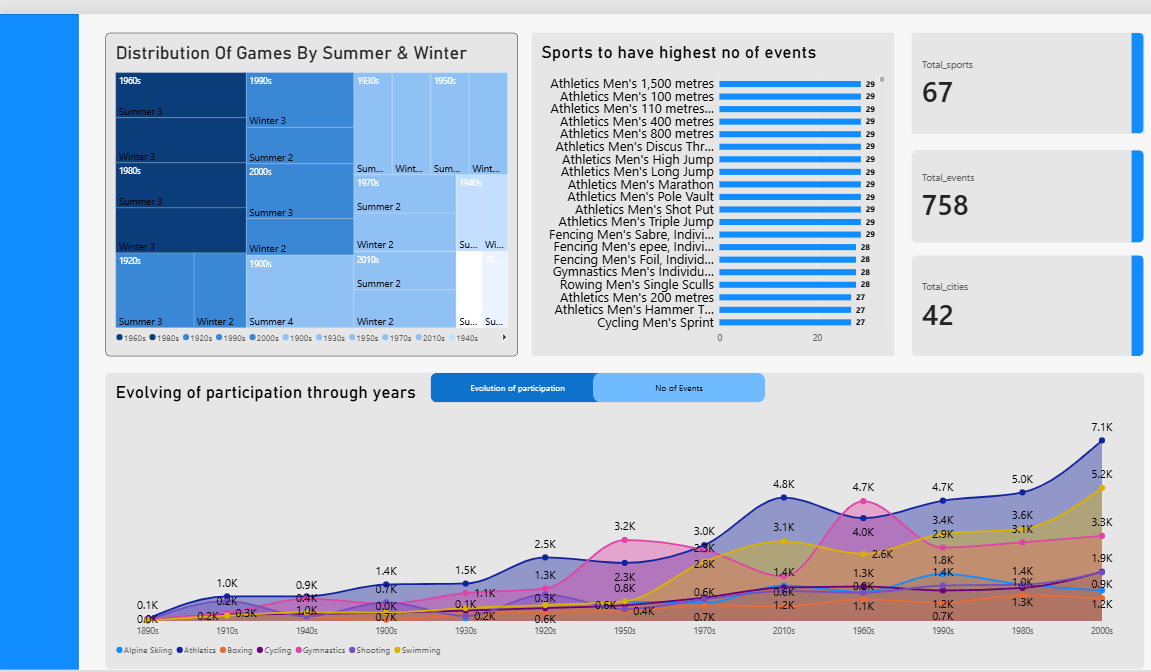

The dashboard page shown, as its layout file describes it:
{"tool":"powerbi","page":{"name":"Page 2","canvas":[1920,1080],"ordinal":1},"visuals":[{"type":"treemap","title":"Distribution Of Games By Summer & Winter","fields":{"Group":["consolidated_fact.games_decade"],"Details":["consolidated_fact.games_season"],"Values":["Count(consolidated_fact.game_name)"]},"box":[177,30.9,679.2,533.1],"z":0},{"type":"clusteredBarChart","title":"Sports to have highest no of events","fields":{"Category":["consolidated_fact.event_name"],"Y":["Count(consolidated_fact.game_name)"]},"box":[878.9,30.9,596.9,533.1],"z":1000},{"type":"lineChart","title":"Evolving of participation through years","fields":{"Category":["consolidated_fact.games_decade"],"Y":["CountNonNull(consolidated_fact.games_competitor_id)"],"Series":["consolidated_fact.sport_name"]},"box":[177,590.7,1710.5,487.8],"z":2000},{"type":"actionButton","box":[712.2,589.8,287.8,49],"z":4000},{"type":"actionButton","box":[979.6,589.8,283.7,49],"z":5000},{"type":"shape","box":[0,0,132.7,1079.6],"z":6000},{"type":"cardVisual","fields":{"Data":["MTable.Total_sports"]},"box":[1504.6,30.9,382.8,166.7],"z":7000},{"type":"cardVisual","fields":{"Data":["MTable.Total_events"]},"box":[1504.6,224.4,382.8,152.3],"z":8000},{"type":"cardVisual","fields":{"Data":["MTable.Total_cities"]},"box":[1504.6,397.3,382.8,166.7],"z":9000}]}

Visuals, with their boxes on the page's 1920x1080 design canvas (x1, y1, x2, y2). These are canvas units, not pixel positions in the 1151x672 screenshot, which may show the page scaled, cropped or inside an application window:
"Distribution Of Games By Summer & Winter" treemap: 177/31/856/564
"Sports to have highest no of events" clusteredBarChart: 879/31/1476/564
"Evolving of participation through years" lineChart: 177/591/1888/1078
actionButton: 712/590/1000/639
actionButton: 980/590/1263/639
shape: 0/0/133/1080
cardVisual - MTable.Total_sports: 1505/31/1887/198
cardVisual - MTable.Total_events: 1505/224/1887/377
cardVisual - MTable.Total_cities: 1505/397/1887/564
